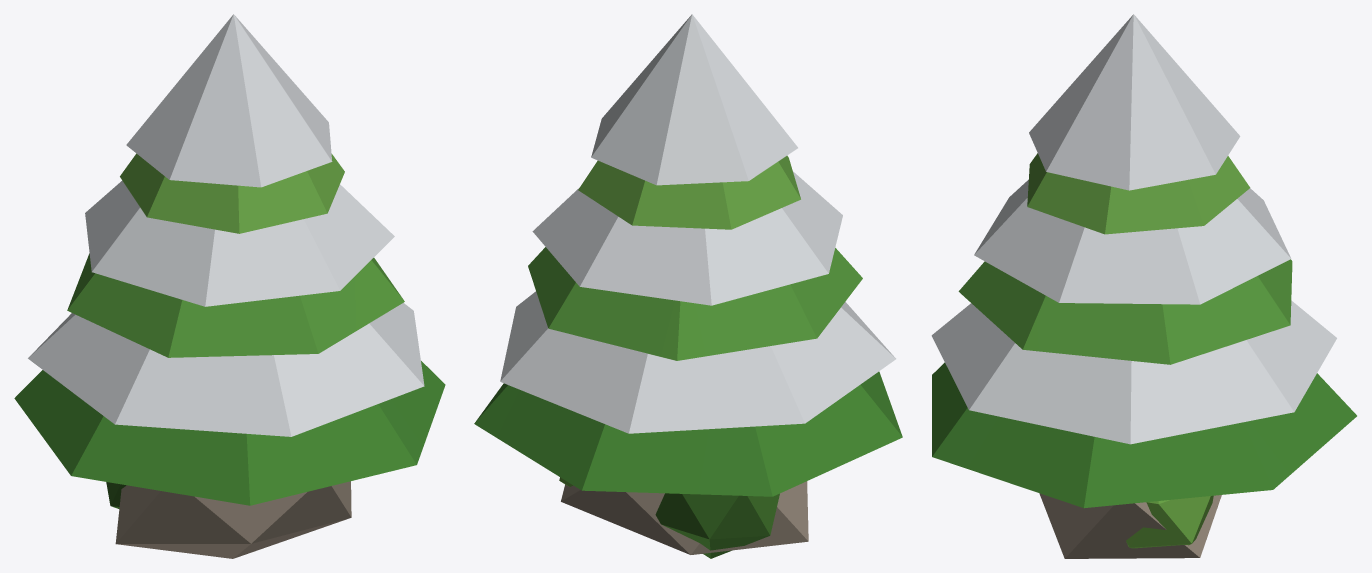
File: props.glb
3 renders of one model, left to right at view 1: azimuth 30°, elevation 25°; view 2: azimuth 150°, elevation 25°; view 3: azimuth 270°, elevation 25°, orthographic.
Visible parts, largest first — view 1: pine_snow, pine, rock; view 2: pine_snow, pine, rock, bush; view 3: pine_snow, pine, rock, bush.
Part boxes in pixels (left/top/right/bottom): pine_snow: left=14, top=14, right=445, bottom=505; pine: left=67, top=154, right=423, bottom=464; rock: left=115, top=481, right=351, bottom=558; pine_snow: left=475, top=14, right=902, bottom=496; pine: left=474, top=155, right=862, bottom=496; rock: left=561, top=481, right=808, bottom=554; bush: left=559, top=477, right=779, bottom=558; pine_snow: left=931, top=14, right=1356, bottom=507; pine: left=932, top=153, right=1292, bottom=489; rock: left=1039, top=493, right=1221, bottom=558; bush: left=1126, top=495, right=1213, bottom=548.
Bounding box in the file's own units: 4.48 × 6.18 × 4.38.
